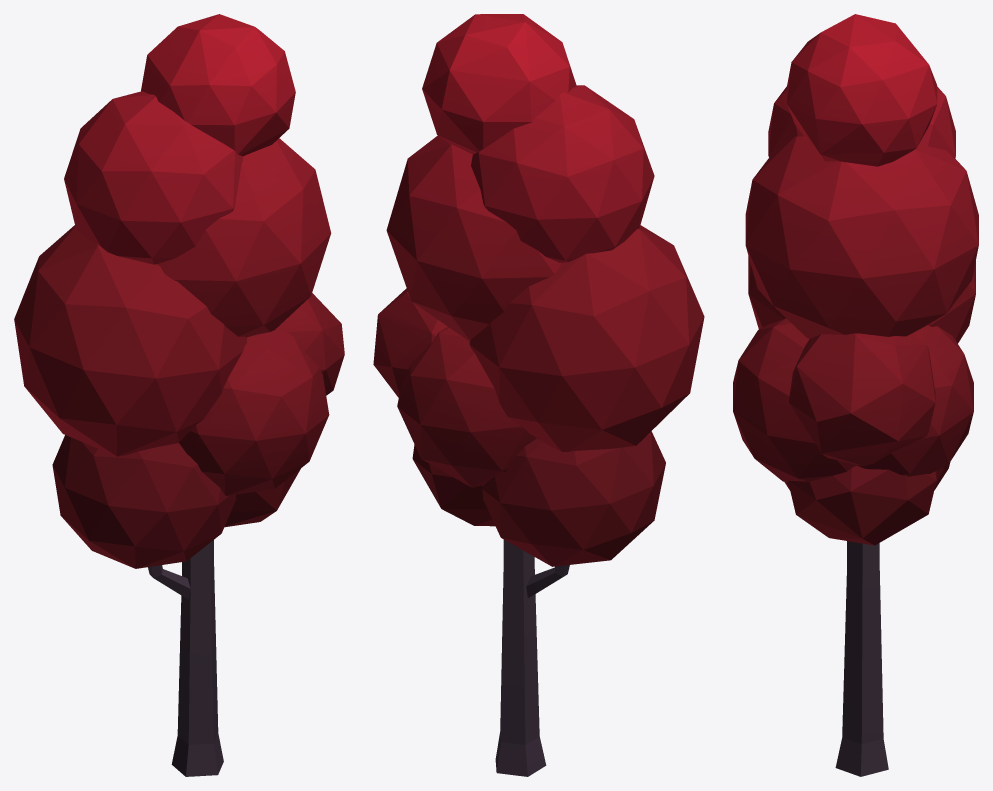
The model's file is tree_oak.fbx.
3 views of the same model, side by side, from view 1: azimuth 30°, elevation 25°; view 2: azimuth 150°, elevation 25°; view 3: azimuth 270°, elevation 25° (orthographic).
Parts seen in each view (by area): view 1: tree_oak; view 2: tree_oak; view 3: tree_oak.
Boxes of the visible parts, x1,y1,x2,y2 form: tree_oak: (14,14,344,776); tree_oak: (373,14,704,776); tree_oak: (733,14,978,776).
Bounding box in the file's own units: 142 × 327 × 97.33.
